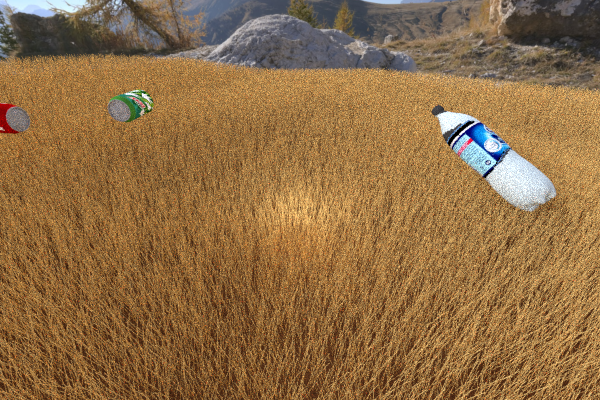Plastic Bottle: (431, 104, 556, 211), (107, 89, 153, 122), (0, 100, 30, 133)
